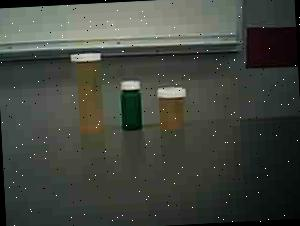Bottle A: (58, 46, 113, 138)
Bottle B: (154, 78, 192, 142)
Bottle C: (118, 76, 150, 134)
